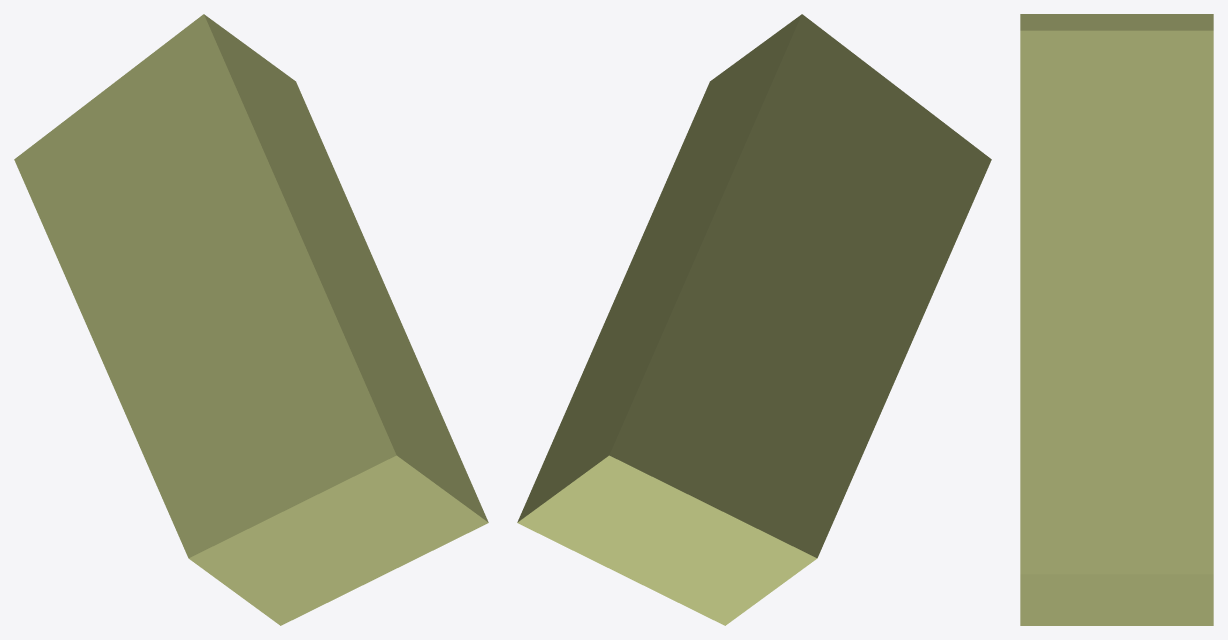
3 renders of one model, left to right at view 1: azimuth 30°, elevation 25°; view 2: azimuth 150°, elevation 25°; view 3: azimuth 270°, elevation 25°, orthographic. The views are drawn at different scales.
Visible parts, largest first — view 1: 0_1_0_2_0_0_2_2; view 2: 0_1_0_2_0_0_2_2; view 3: 0_1_0_2_0_0_2_2.
Boxes of the visible parts, x1,y1,x2,y2 form: 0_1_0_2_0_0_2_2: (14, 14, 488, 625); 0_1_0_2_0_0_2_2: (517, 14, 991, 625); 0_1_0_2_0_0_2_2: (1020, 14, 1213, 625).
Bounding box in the file's own units: 14.38 × 19.42 × 6.
